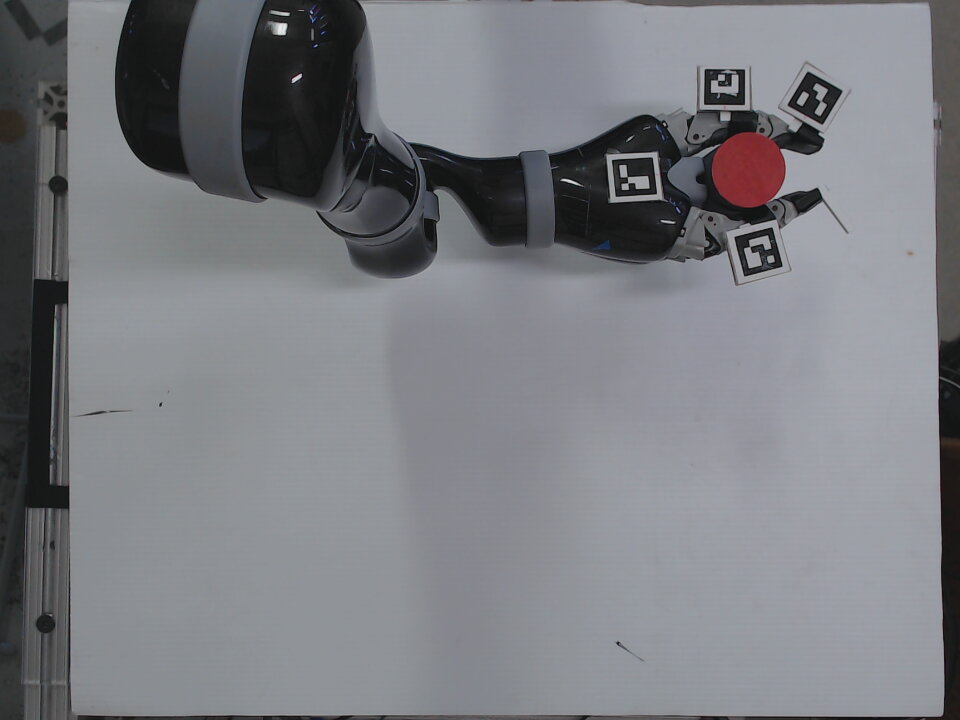cylinder: (698, 130, 790, 212)
